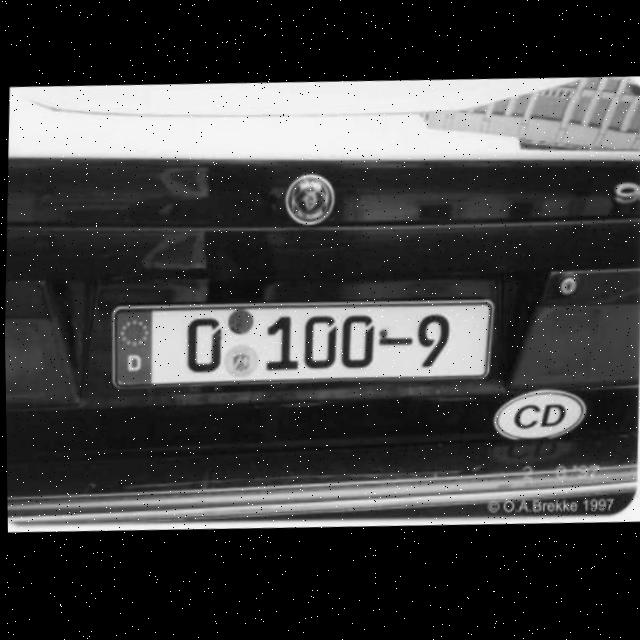license-plates: (112, 300, 494, 388)
